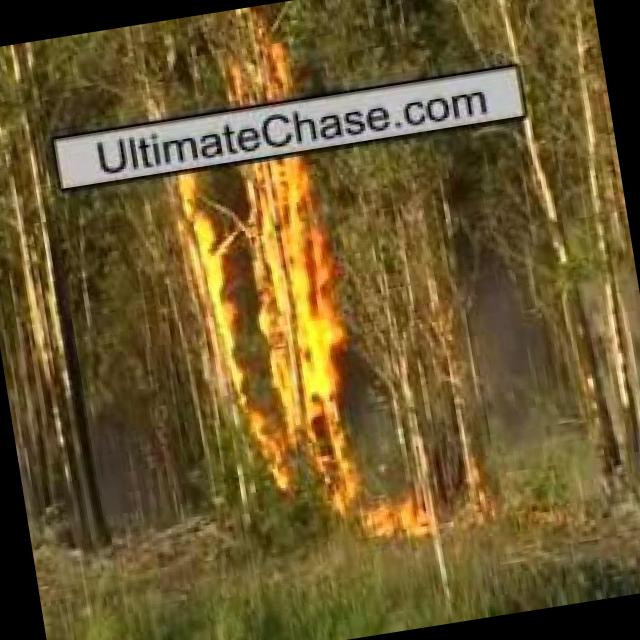Fire: (164, 152, 383, 524), (214, 19, 298, 114), (359, 504, 435, 544)
